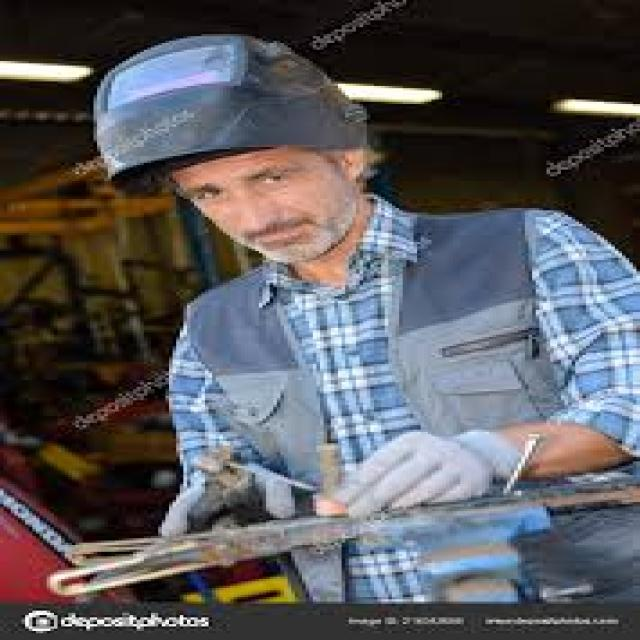helmet_lifted: (83, 27, 414, 279)
